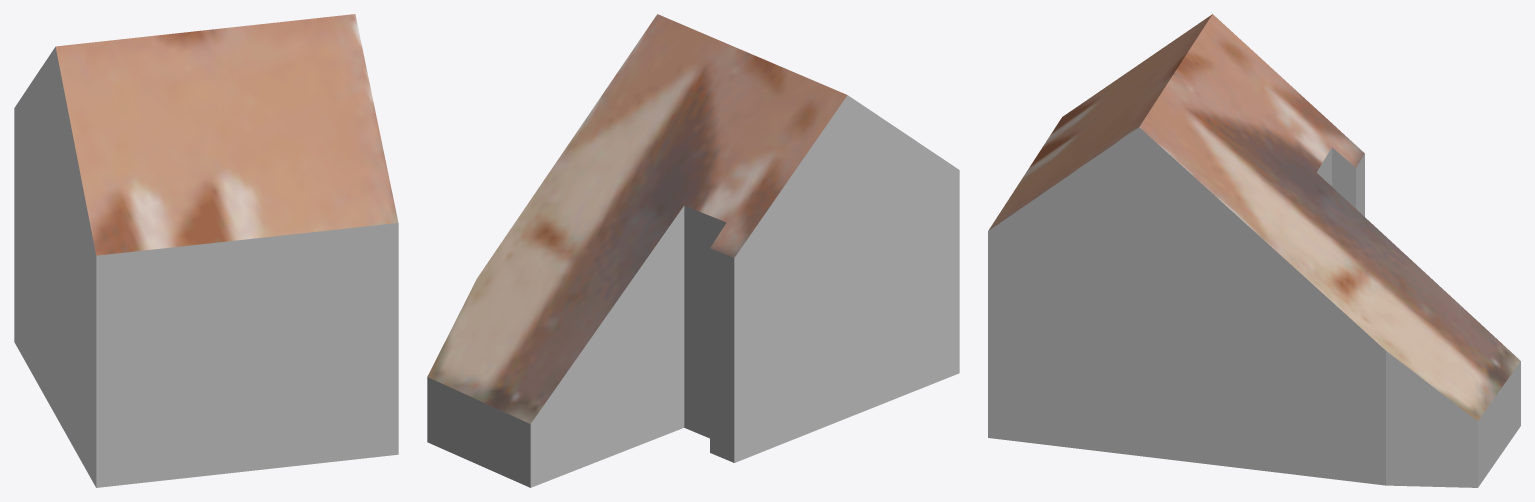
Rendered from DEBW_0010007Tx61.gltf.
The picture shows the model from 3 angles, left to right: view 1: azimuth 30°, elevation 25°; view 2: azimuth 150°, elevation 25°; view 3: azimuth 270°, elevation 25°; orthographic projection. The views are drawn at different scales.
Visible parts, largest first — view 1: Z_UP; view 2: Z_UP; view 3: Z_UP.
Boxes of the visible parts, x1,y1,x2,y2 form: Z_UP: (14, 14, 398, 487); Z_UP: (427, 14, 959, 487); Z_UP: (988, 14, 1520, 487).
Bounding box in the file's own units: 13.08 × 12.28 × 18.
2 materials, 1 textured.
